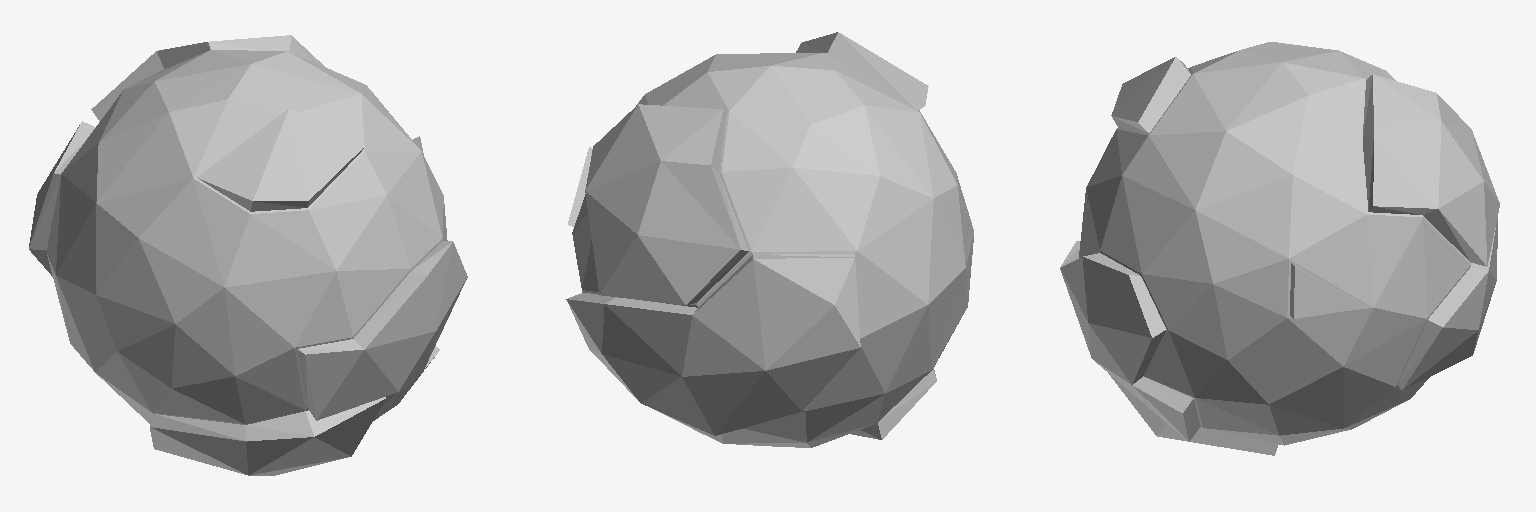
The model's file is earth.obj.
3 views of the same model, side by side, from view 1: azimuth 30°, elevation 25°; view 2: azimuth 150°, elevation 25°; view 3: azimuth 270°, elevation 25° (orthographic).
Parts seen in each view (by area): view 1: 球体; view 2: 球体; view 3: 球体.
Boxes of the visible parts, x1=… form: 球体: x1=29, y1=35, x2=467, y2=475; 球体: x1=566, y1=32, x2=973, y2=447; 球体: x1=1060, y1=42, x2=1499, y2=455.
Bounding box in the file's own units: 419 × 427 × 444.